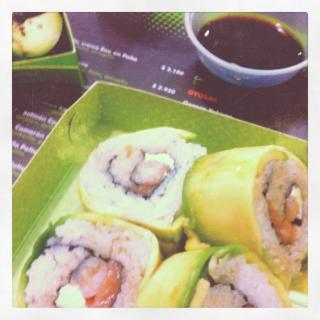Sushi: (183, 145, 309, 287), (79, 126, 209, 257), (25, 218, 171, 308), (138, 242, 293, 312)
